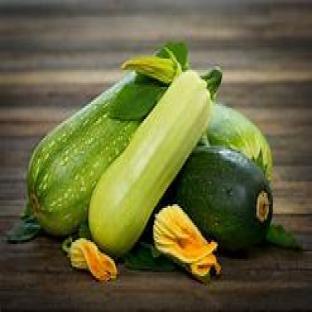Zucchini: (89, 70, 210, 257), (28, 74, 138, 236), (175, 146, 272, 251), (206, 104, 272, 181)
